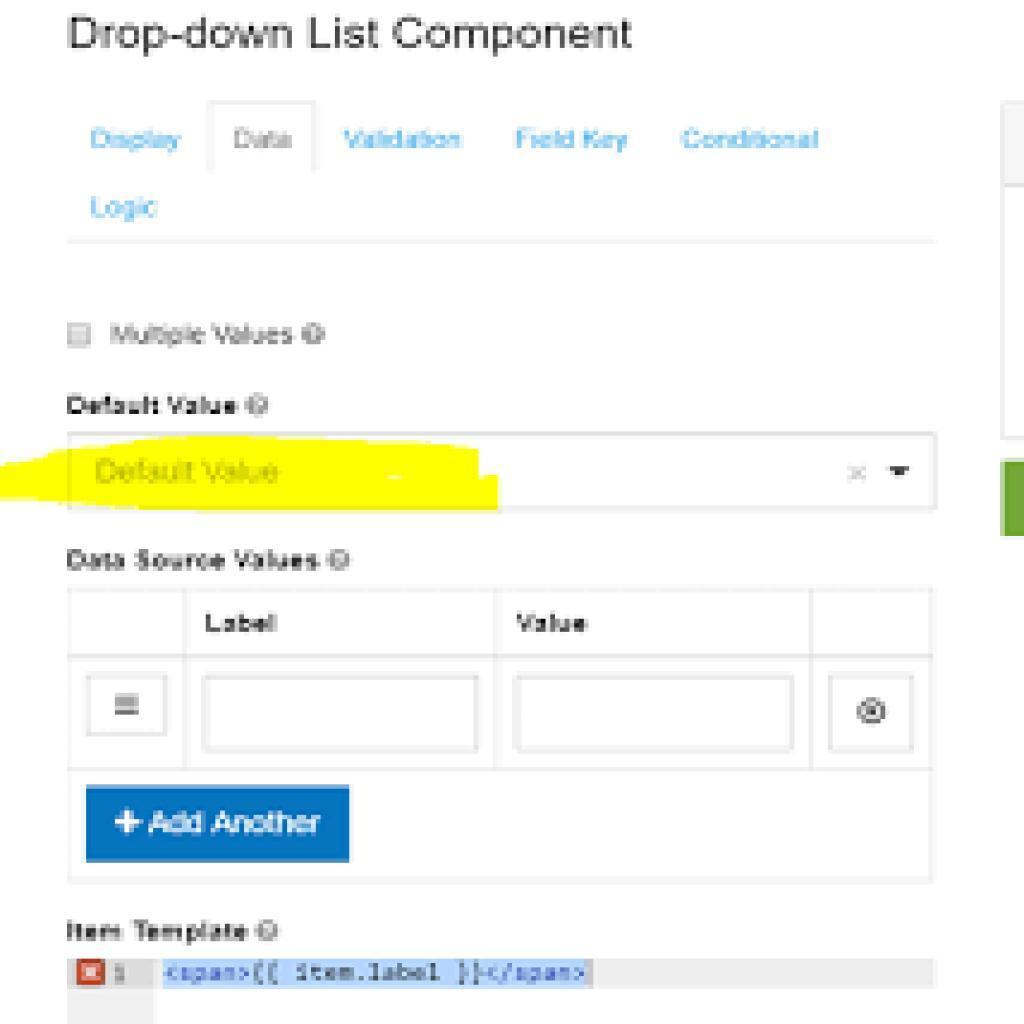button: (85, 789, 351, 864), (211, 102, 318, 176)
checkbox: (68, 322, 92, 350)
dropdown: (70, 436, 939, 511)
icon: (108, 688, 145, 719)
input: (204, 675, 479, 753), (515, 675, 795, 750)
label: (62, 542, 361, 581), (111, 318, 329, 351), (65, 390, 277, 423), (680, 127, 831, 152), (341, 127, 469, 156), (515, 128, 636, 156), (84, 125, 187, 156), (87, 190, 164, 231)
radio: (855, 694, 892, 729)
table: (67, 591, 930, 772)
